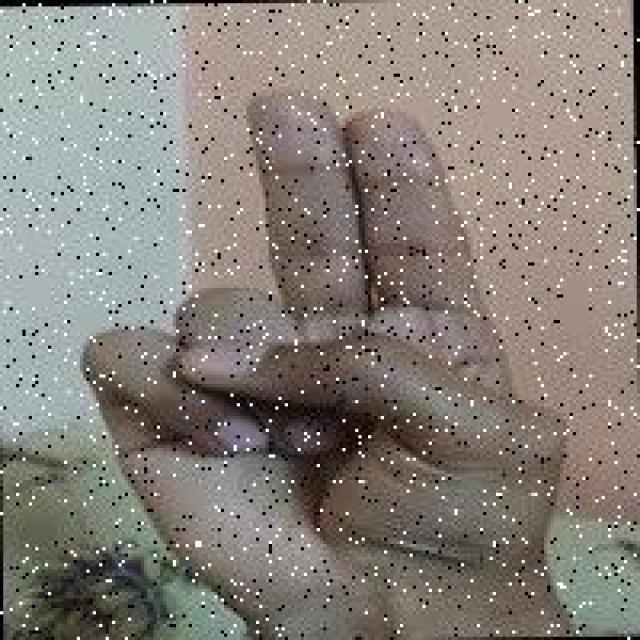U: (72, 75, 581, 581)
